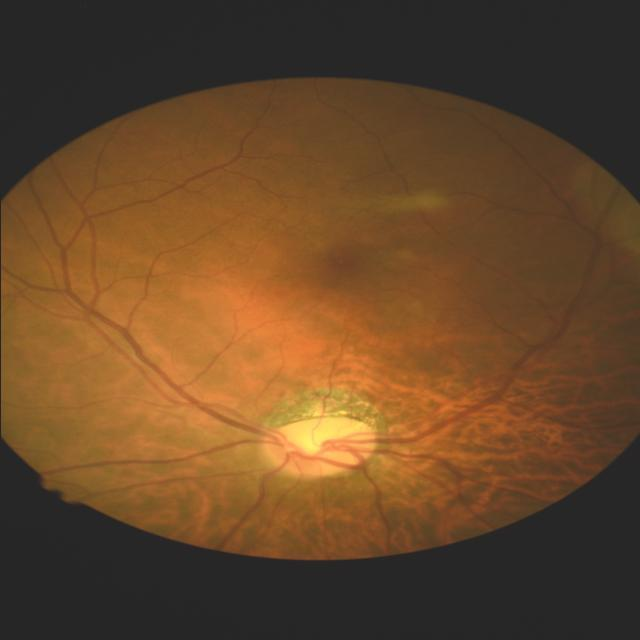cup: (280, 418, 366, 470)
disk: (261, 418, 380, 480)
